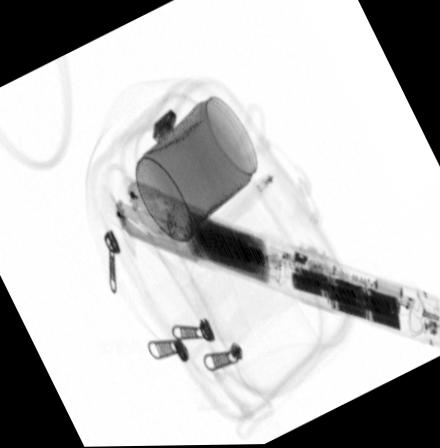Baton: (112, 177, 440, 350)
